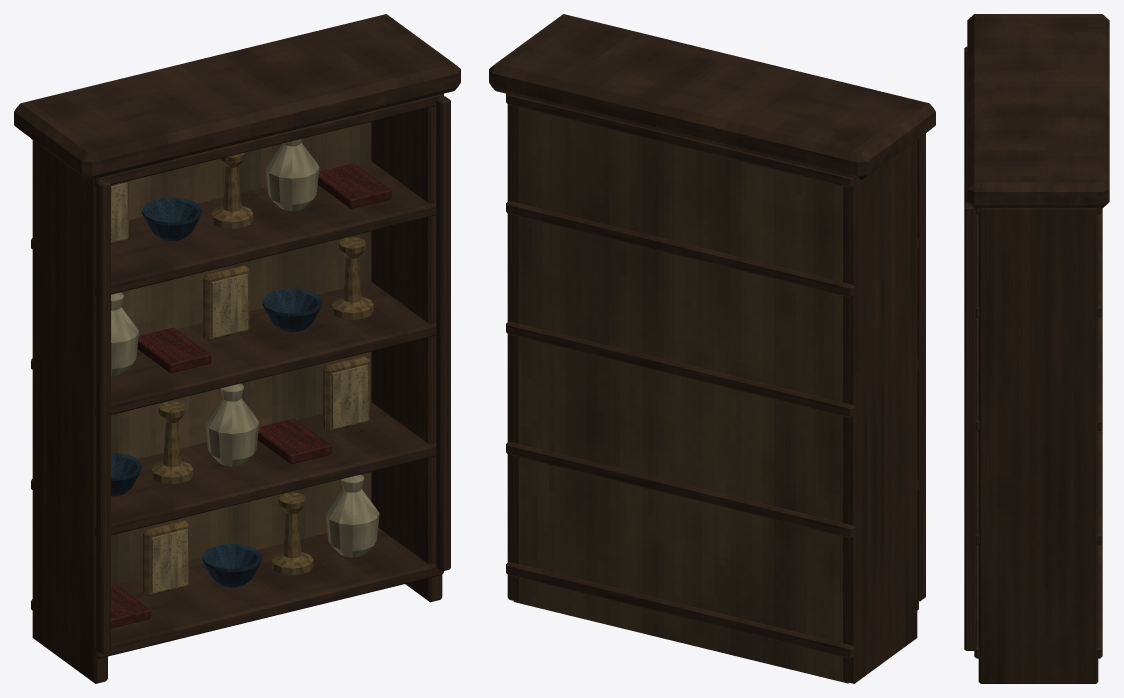
The model's file is level_lived_curio_worn.glb.
3 views of the same model, side by side, from view 1: azimuth 30°, elevation 25°; view 2: azimuth 150°, elevation 25°; view 3: azimuth 270°, elevation 25° (orthographic). The views are drawn at different scales.
Visible parts, largest first — view 1: level_lived_curio_worn; view 2: level_lived_curio_worn; view 3: level_lived_curio_worn.
Boxes of the visible parts, x1,y1,x2,y2 form: level_lived_curio_worn: [14, 14, 460, 683]; level_lived_curio_worn: [489, 14, 935, 683]; level_lived_curio_worn: [964, 14, 1109, 683].
Bounding box in the file's own units: 1.45 × 1.96 × 0.51.
Materials: 7 (7 with a texture image).
